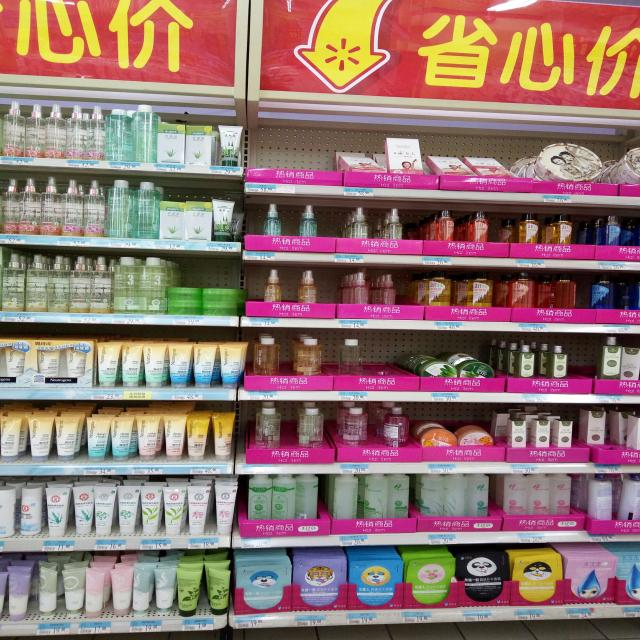void: (294, 128, 336, 195), (254, 130, 290, 194), (372, 337, 405, 405), (611, 406, 640, 472), (615, 546, 640, 619), (573, 338, 595, 404)
